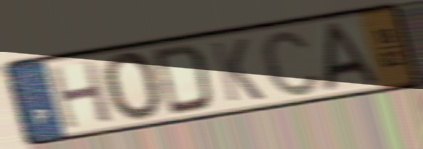A: (323, 19, 381, 94)
C: (257, 27, 323, 99)
D: (150, 41, 216, 118)
H: (45, 57, 116, 132)
K: (208, 37, 268, 105)
O: (99, 50, 165, 124)
